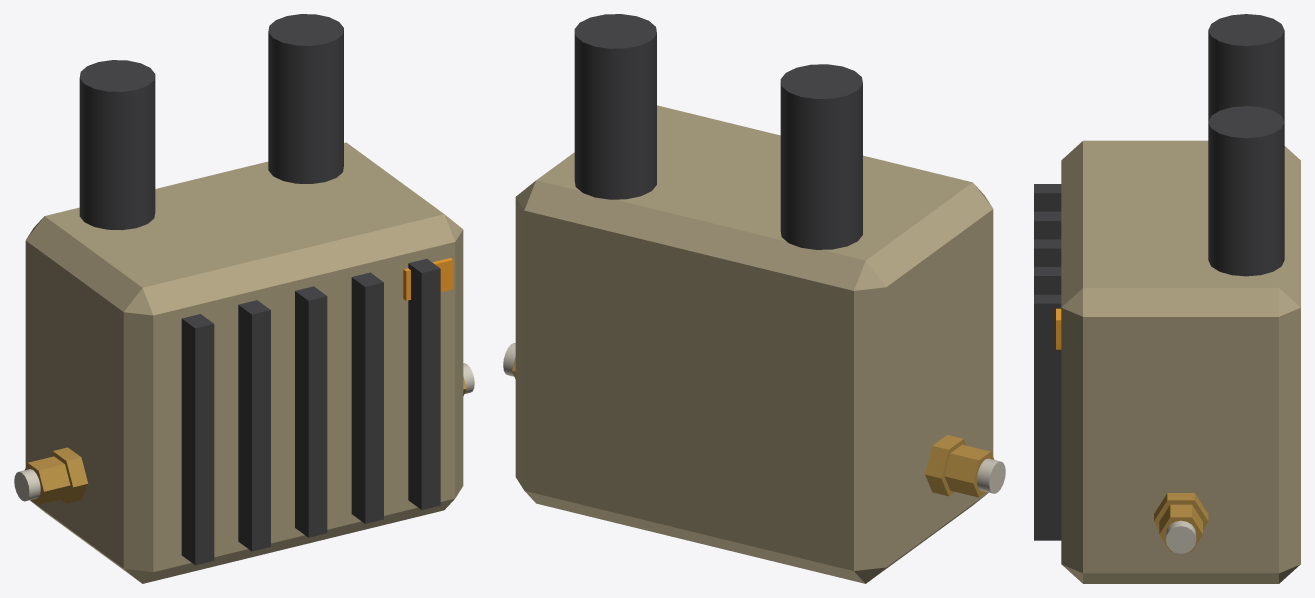
Rendered from rcs4_driver.obj.
The picture shows the model from 3 angles, left to right: view 1: azimuth 30°, elevation 25°; view 2: azimuth 150°, elevation 25°; view 3: azimuth 270°, elevation 25°; orthographic projection. The views are drawn at different scales.
Parts seen in each view (by area): view 1: rcs4_driver; view 2: rcs4_driver; view 3: rcs4_driver.
Boxes of the visible parts, bbox=[...] form: rcs4_driver: bbox=[14, 14, 474, 583]; rcs4_driver: bbox=[503, 14, 1005, 583]; rcs4_driver: bbox=[1034, 14, 1300, 583].
Bounding box in the file's own units: 0.472 × 0.44 × 0.245.
